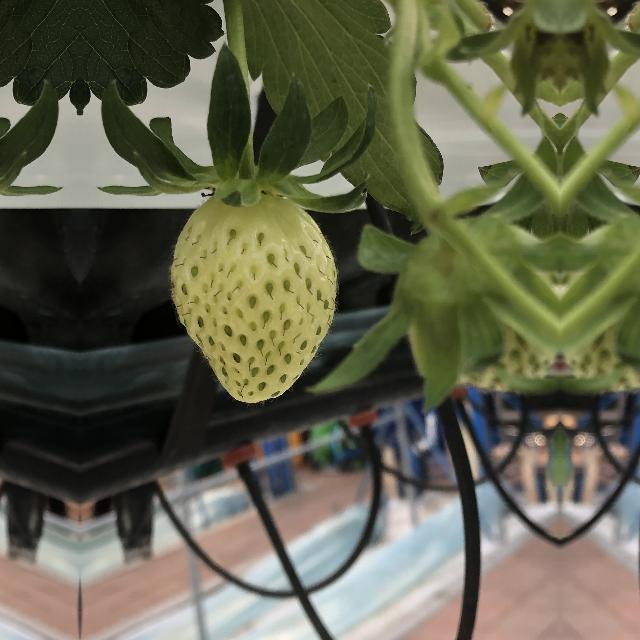Health_25: (168, 187, 342, 405)
